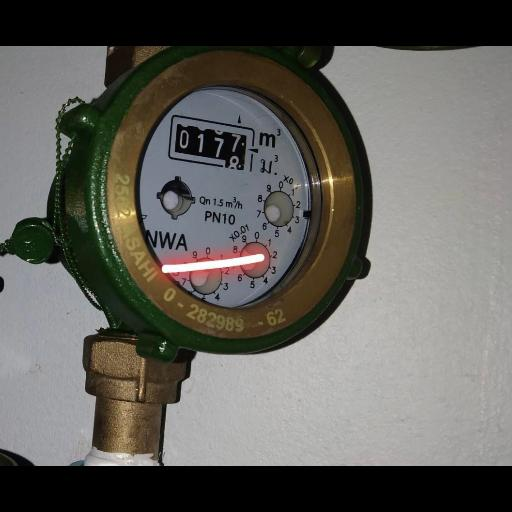0: (174, 124, 194, 155)
1: (190, 126, 210, 158)
7: (224, 133, 246, 172), (206, 129, 228, 161)
border_water_meter_number: (163, 115, 260, 174)
